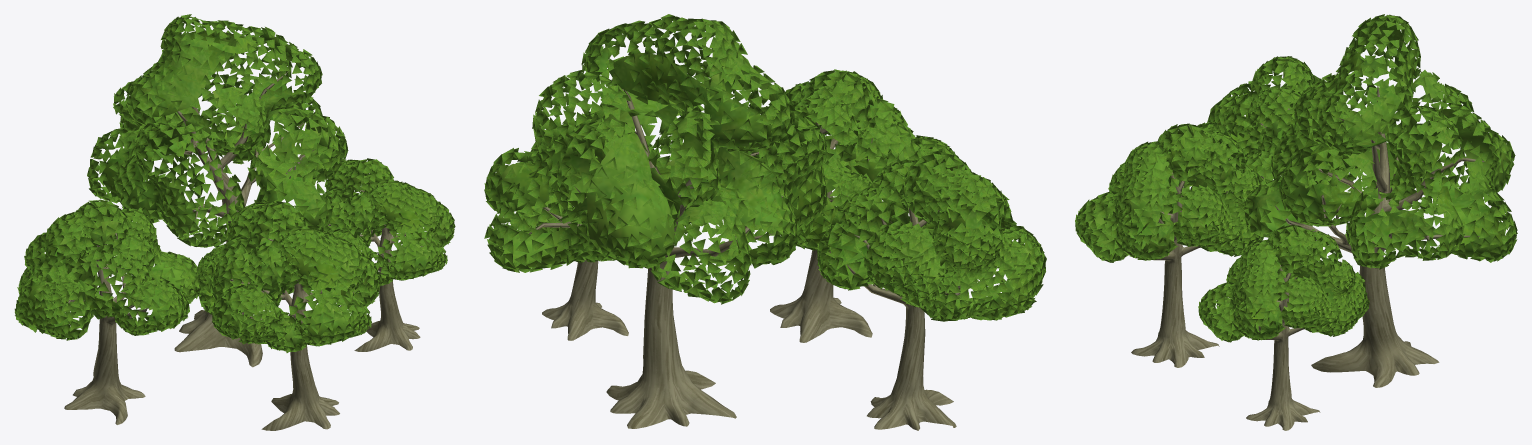
File: SM_ENV_LKNVLD_TreeSet_H.FBX
3 renders of one model, left to right at view 1: azimuth 30°, elevation 25°; view 2: azimuth 150°, elevation 25°; view 3: azimuth 270°, elevation 25°, orthographic. The views are drawn at different scales.
Visible parts, largest first — view 1: SM_ENV_LKNVLD_TreeSet_H; view 2: SM_ENV_LKNVLD_TreeSet_H; view 3: SM_ENV_LKNVLD_TreeSet_H.
Part boxes in pixels (box(x1,y1,x2,y2)): SM_ENV_LKNVLD_TreeSet_H: box(14, 14, 455, 430); SM_ENV_LKNVLD_TreeSet_H: box(484, 14, 1046, 430); SM_ENV_LKNVLD_TreeSet_H: box(1075, 14, 1517, 430).
Size of the model in its own units: 1884 by 1405 by 1677.
